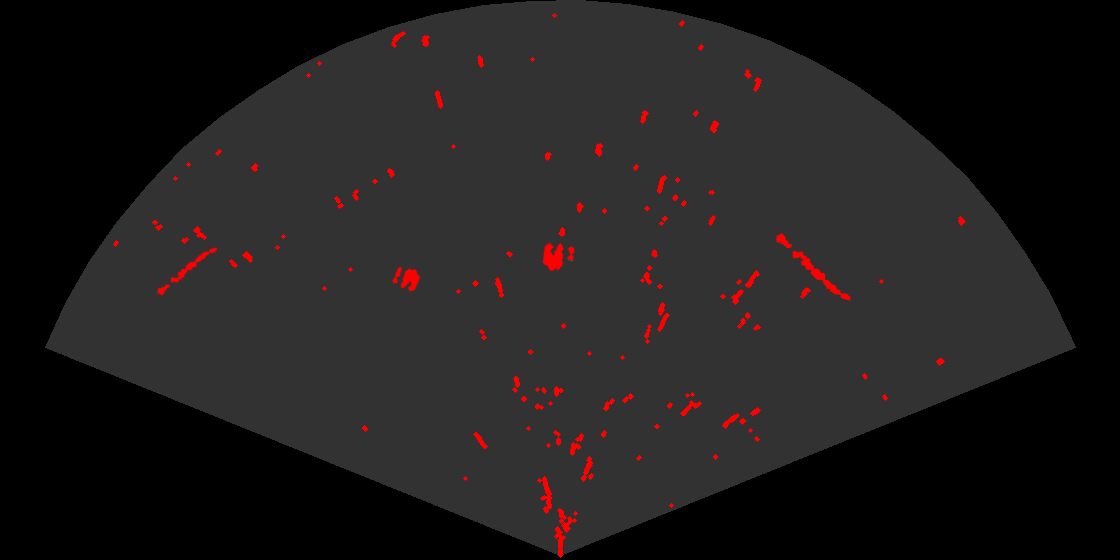ball: (541, 241, 576, 273), (391, 265, 422, 294)
chain: (775, 232, 852, 302), (147, 246, 219, 301)
